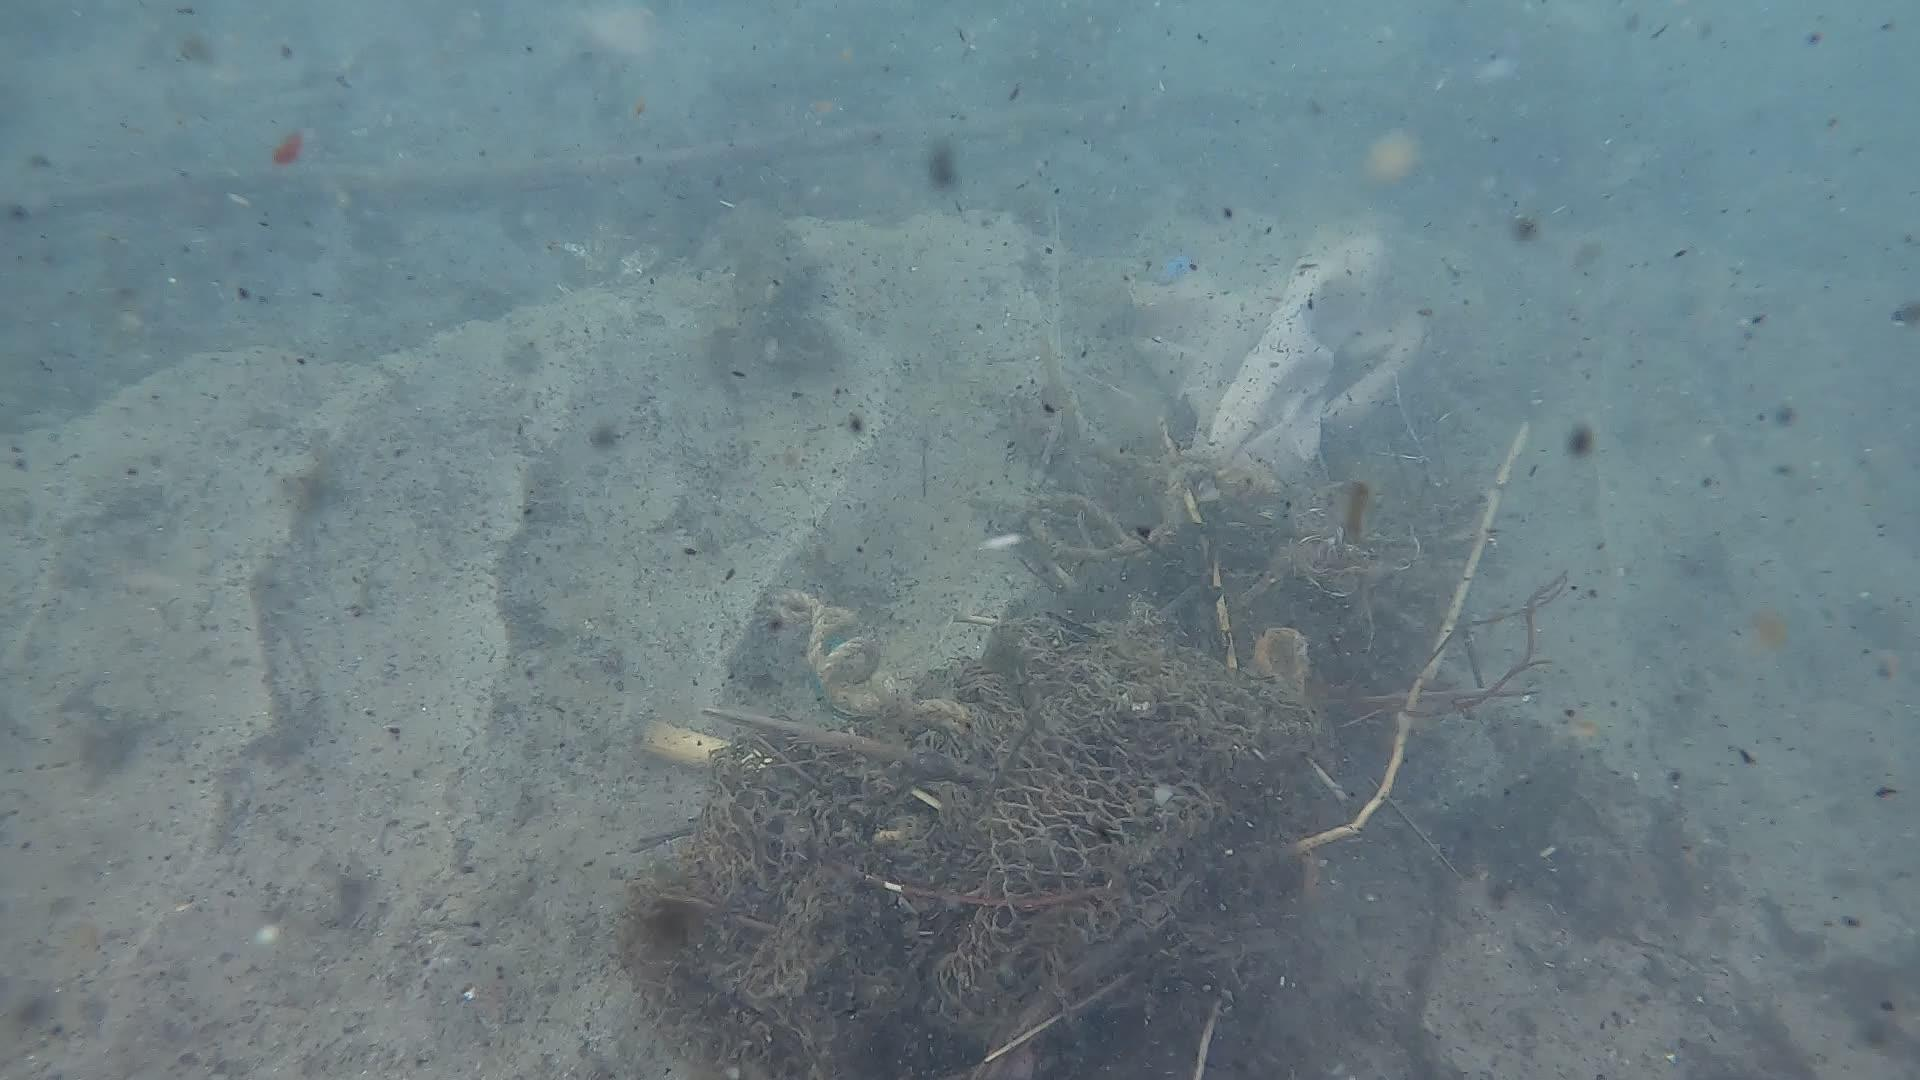fish net: (690, 735, 1197, 1029)
rope: (767, 582, 978, 744)
